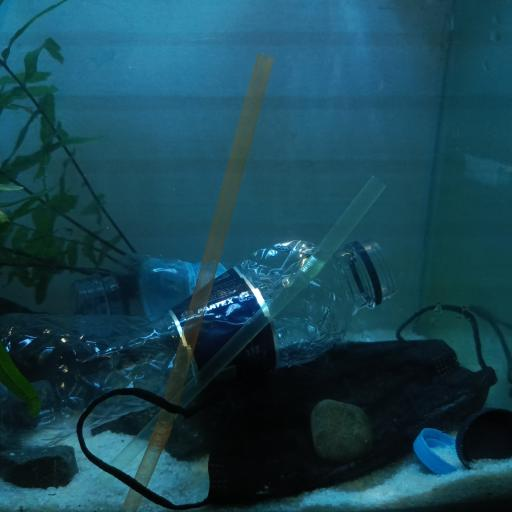bottle_cap: (456, 407, 512, 466), (413, 428, 462, 474)
mask: (80, 297, 502, 507)
plastic_bottle: (0, 239, 393, 463), (76, 254, 238, 318)
plastic_straw: (94, 172, 380, 497), (122, 51, 278, 495)
